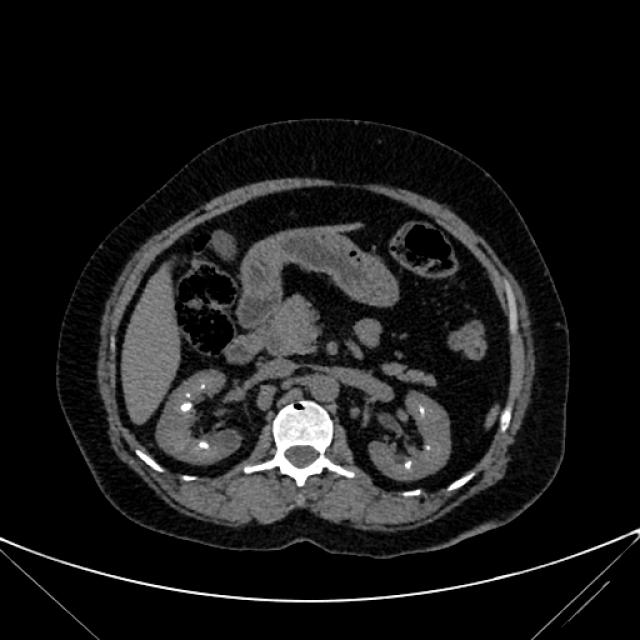kidney: (164, 374, 236, 461), (376, 396, 446, 481)
stone: (182, 404, 192, 411), (200, 444, 208, 448), (406, 463, 412, 468), (202, 384, 205, 390), (186, 393, 190, 397), (426, 446, 430, 450), (420, 409, 424, 413)
